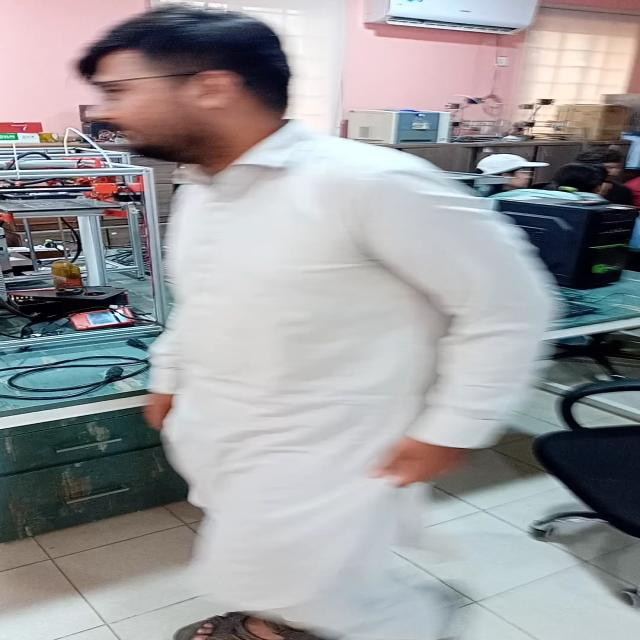dress: (137, 121, 570, 640)
